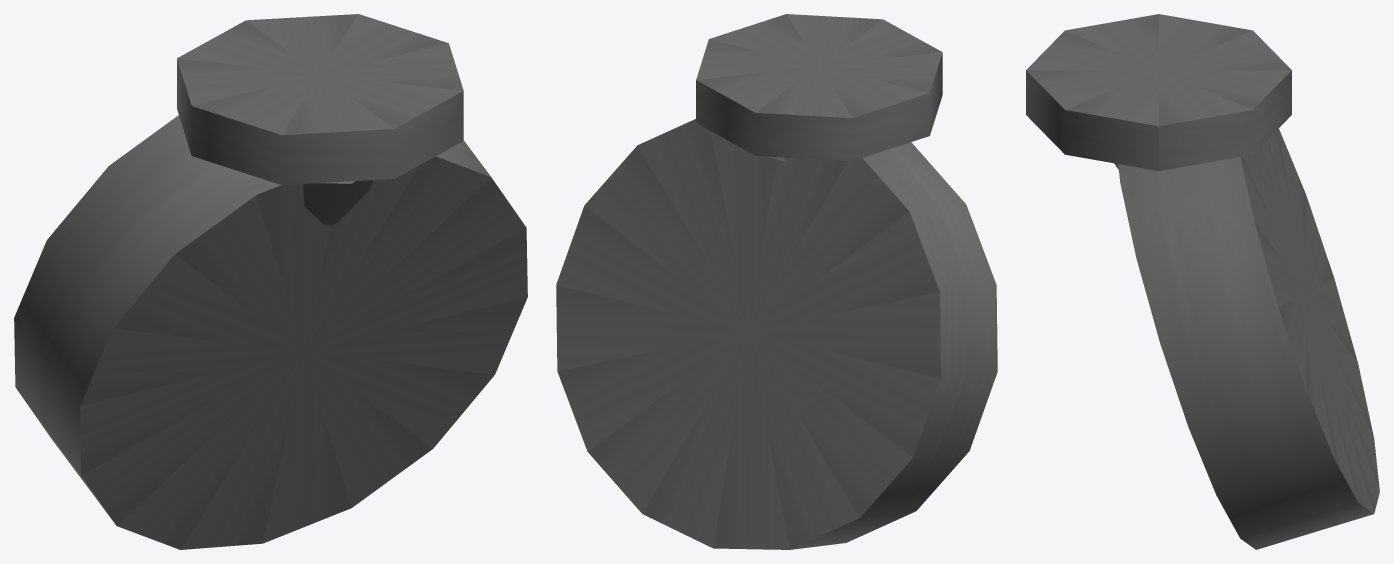
Rendered from mastarmcurve_8x2_c3_up.obj.
3 renders of one model, left to right at view 1: azimuth 30°, elevation 25°; view 2: azimuth 150°, elevation 25°; view 3: azimuth 270°, elevation 25°, orthographic. The views are drawn at different scales.
Visible parts, largest first — view 1: mastarm_8x2_c3_up; view 2: mastarm_8x2_c3_up; view 3: mastarm_8x2_c3_up.
Part boxes in pixels (left/top/right/bottom): mastarm_8x2_c3_up: left=14, top=14, right=527, bottom=549; mastarm_8x2_c3_up: left=556, top=14, right=997, bottom=549; mastarm_8x2_c3_up: left=1026, top=14, right=1379, bottom=549.
Bounding box in the file's own units: 0.6964 × 0.7595 × 0.5324.
